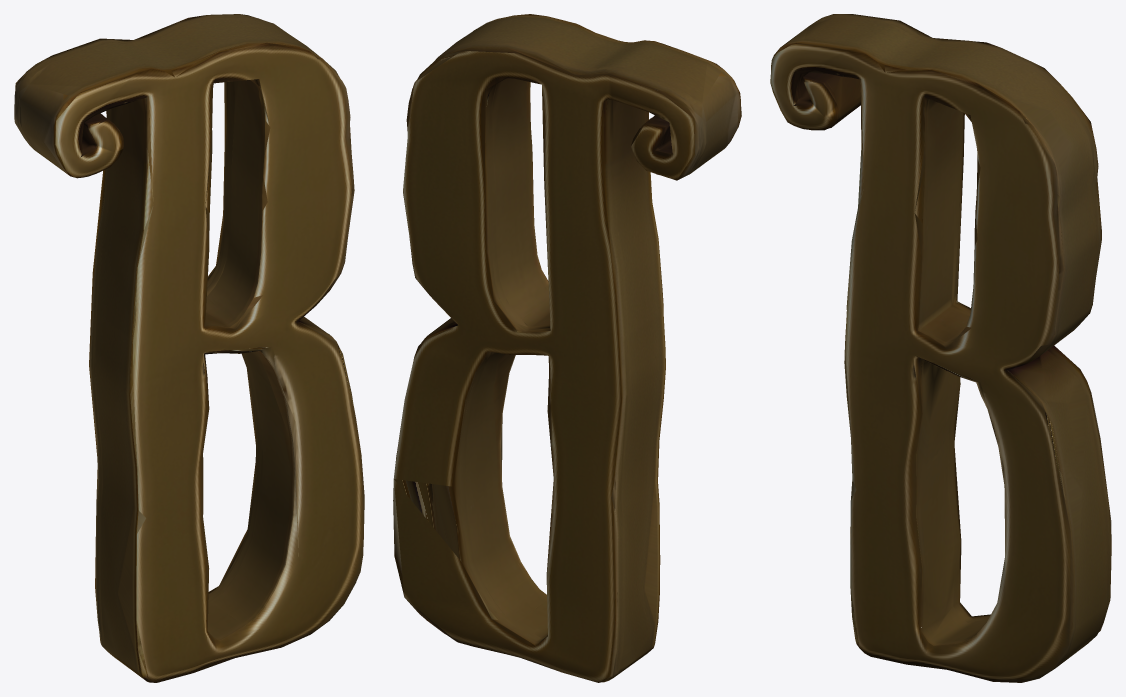
The model's file is letter_b.glb.
3 renders of one model, left to right at view 1: azimuth 30°, elevation 25°; view 2: azimuth 150°, elevation 25°; view 3: azimuth 330°, elevation 25°, orthographic. The views are drawn at different scales.
Parts seen in each view (by area): view 1: tripo_45be6b2d_f261_47c7_8967_884e73d7f919; view 2: tripo_45be6b2d_f261_47c7_8967_884e73d7f919; view 3: tripo_45be6b2d_f261_47c7_8967_884e73d7f919.
Part boxes in pixels (left/top/right/bottom): tripo_45be6b2d_f261_47c7_8967_884e73d7f919: left=14, top=14, right=364, bottom=682; tripo_45be6b2d_f261_47c7_8967_884e73d7f919: left=393, top=14, right=741, bottom=682; tripo_45be6b2d_f261_47c7_8967_884e73d7f919: left=770, top=14, right=1111, bottom=682.
Bounding box in the file's own units: 0.5265 × 0.9995 × 0.1355.
1 material, 1 textured.
